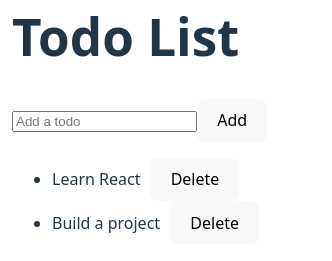
TodoList component › deletes a todo item
Click the button "Delete" next to "Build a project" at (215, 223), box top-left (170, 201), bottom-right (259, 244)
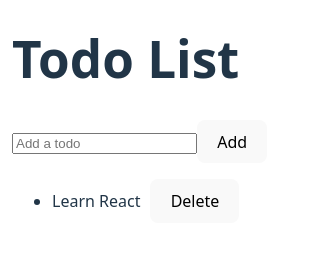
Expected: the text "Build a project" is gone
